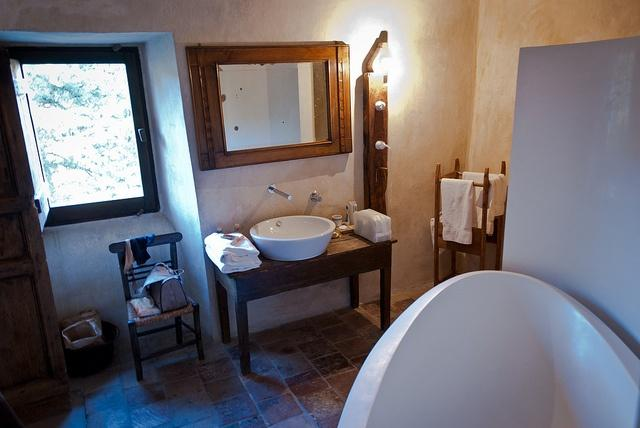Kursi: (109, 230, 205, 383)
Meja: (209, 220, 397, 374)
